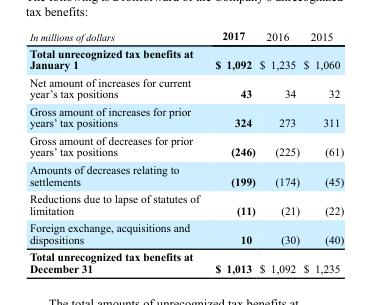table: (28, 29, 343, 274)
table column: (28, 29, 206, 274), (206, 29, 256, 274), (256, 29, 300, 274), (300, 29, 343, 274)
table column header: (28, 29, 343, 44)
table row: (28, 44, 343, 73), (28, 73, 343, 102), (28, 102, 343, 131), (28, 131, 343, 160), (28, 160, 343, 189), (28, 189, 343, 218), (28, 218, 343, 247), (28, 247, 343, 274), (28, 29, 343, 44)
